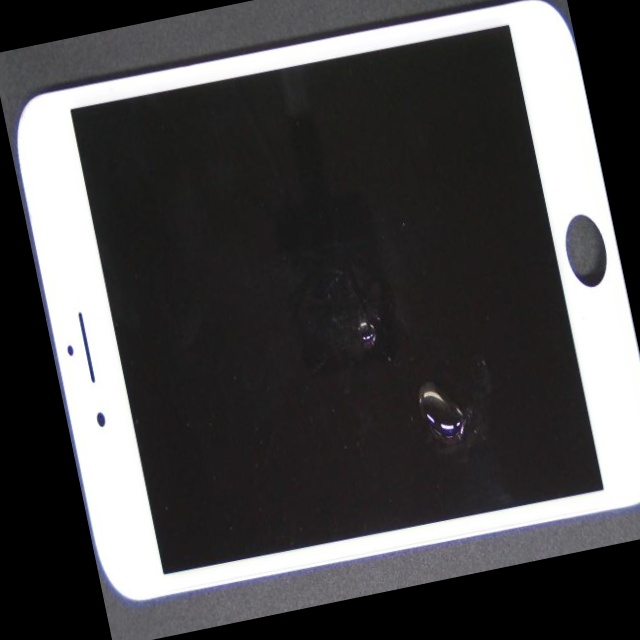oil: (237, 164, 640, 607), (176, 113, 538, 517)
